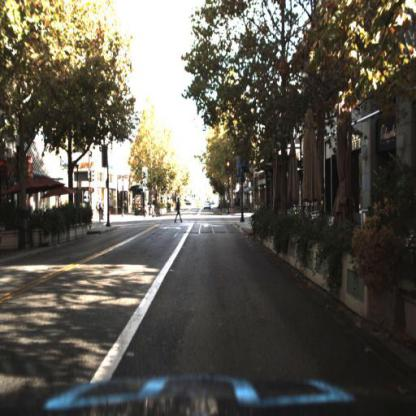pedestrian: (144, 200, 159, 221), (175, 197, 184, 227), (100, 198, 109, 223)
trafficLight-Red: (224, 153, 231, 178)
